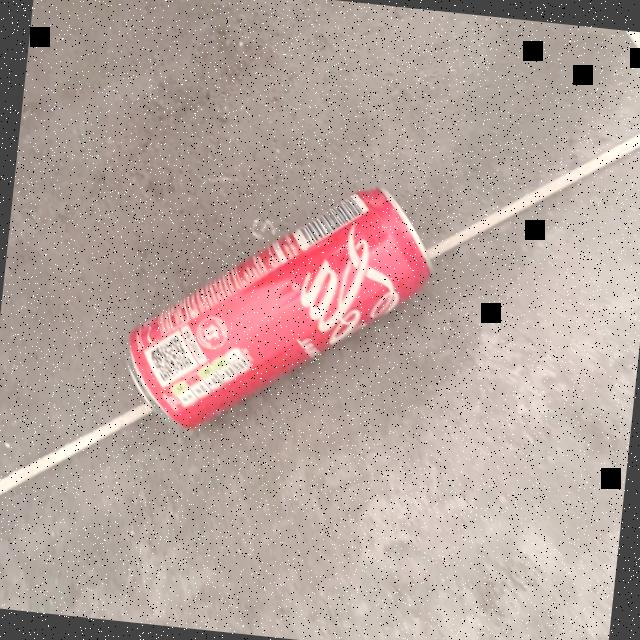can: (95, 134, 464, 474)
